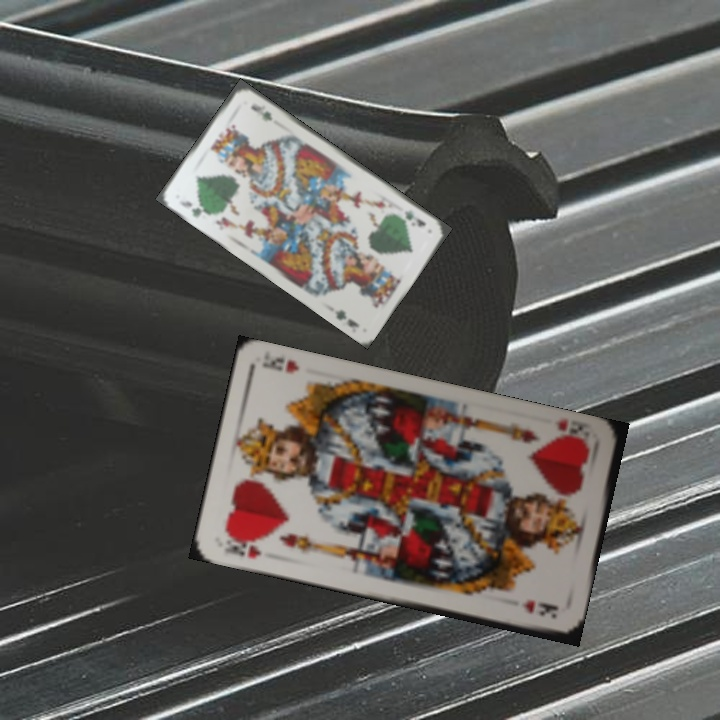GK: (175, 196, 212, 220), (401, 206, 428, 230)
HK: (550, 415, 593, 450), (220, 531, 264, 562)
